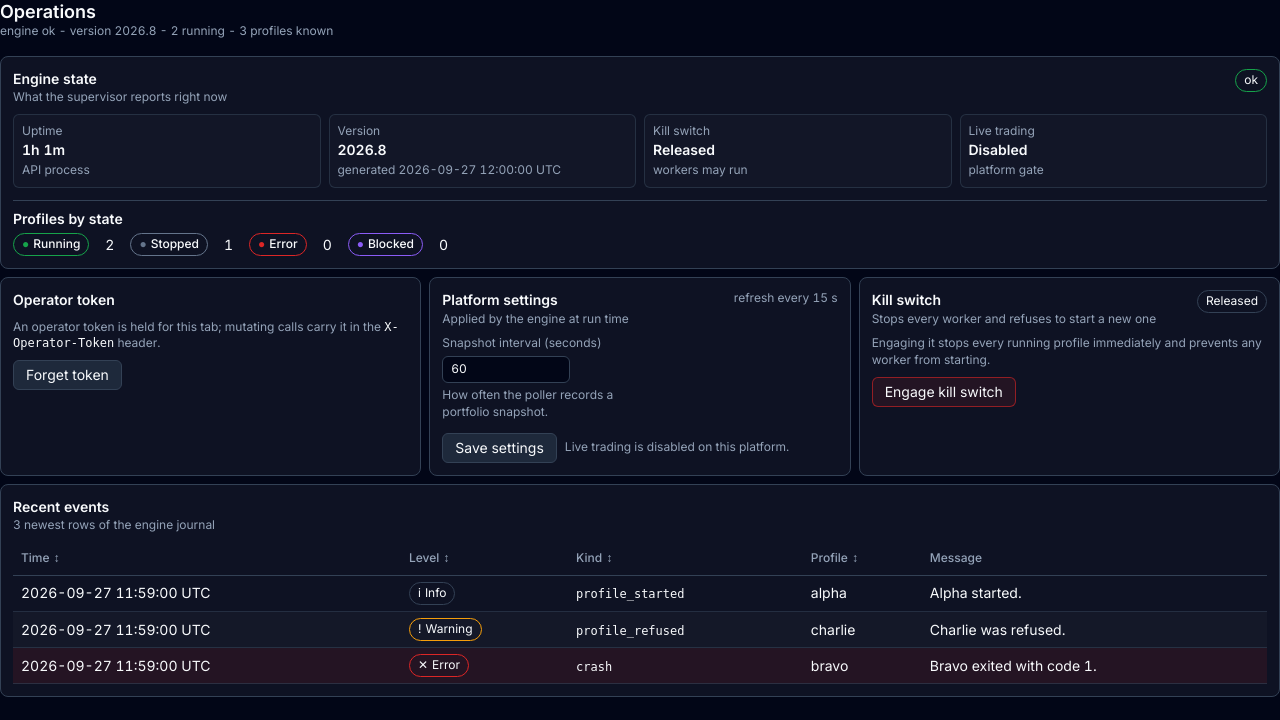
Test case: OperationsPage › surfaces the 403 of the API when the kill switch is confirmed with a wrong token
Click the button "Engage kill switch": {"x": 944, "y": 392} x1=872 y1=377 x2=1016 y2=407
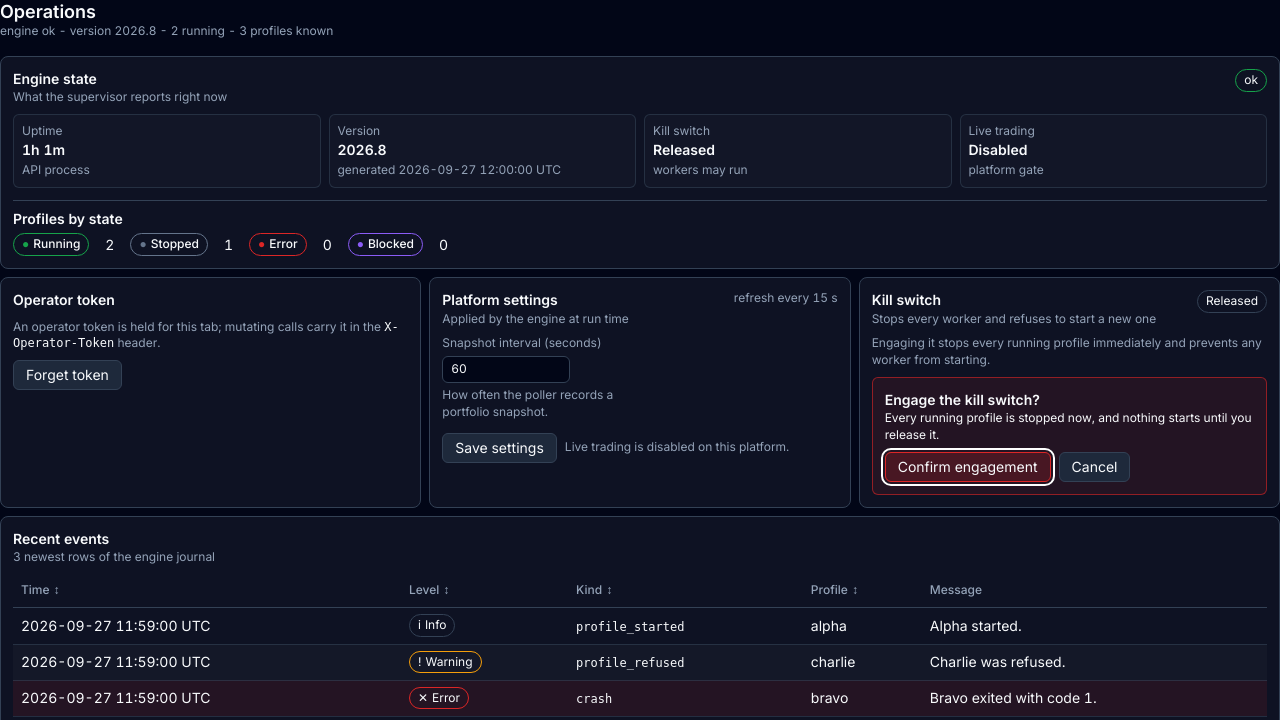
Click the button "Confirm engagement": {"x": 968, "y": 467} x1=885 y1=452 x2=1051 y2=482
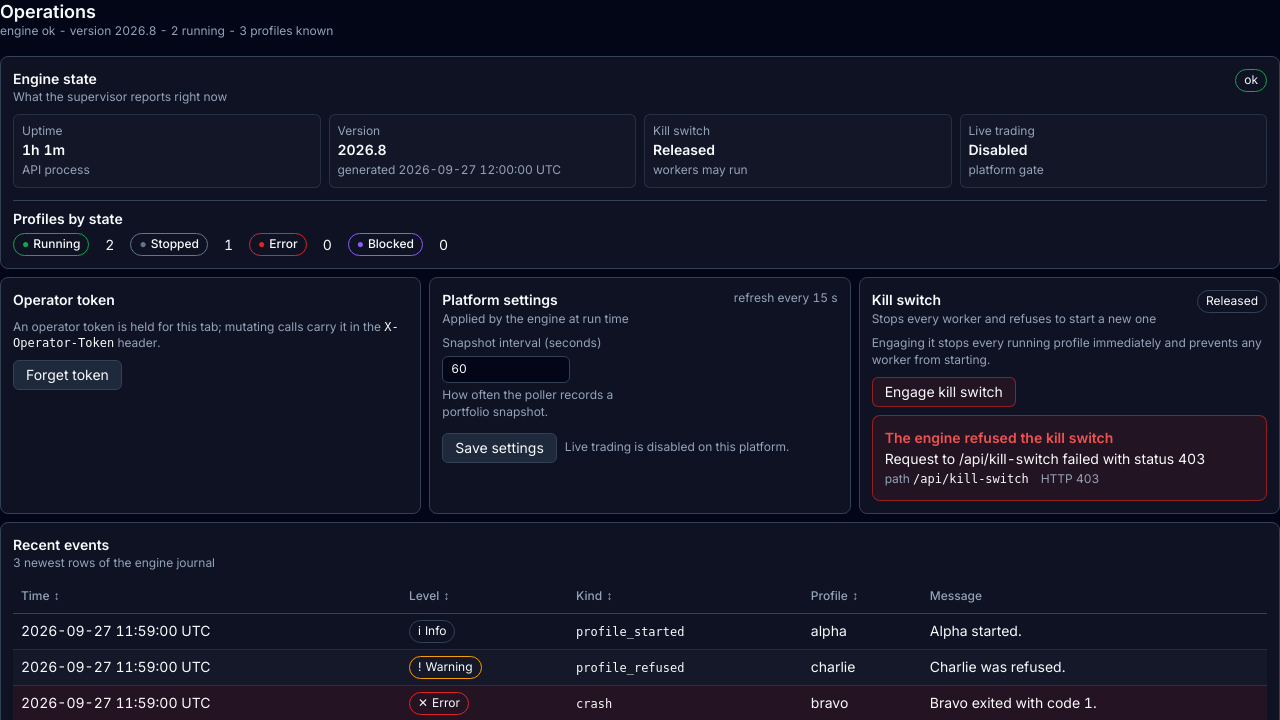
Now the text "The engine refused the kill switch" is shown, box x1=885 y1=429 x2=1113 y2=446
Now the text "HTTP 403" is shown, box x1=1041 y1=471 x2=1099 y2=488
